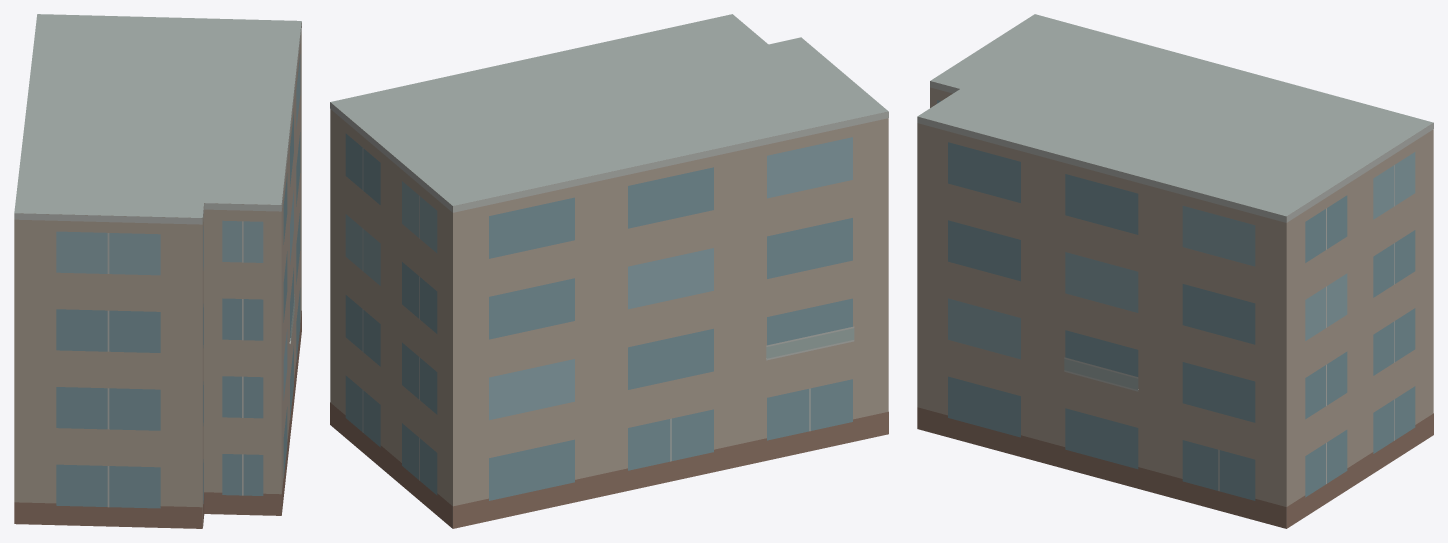
Rendered from survey-upis-32524475.glb.
3 renders of one model, left to right at view 1: azimuth 30°, elevation 25°; view 2: azimuth 150°, elevation 25°; view 3: azimuth 270°, elevation 25°, orthographic. The views are drawn at different scales.
Parts seen in each view (by area): view 1: survey-upis-32524475.tmp; view 2: survey-upis-32524475.tmp; view 3: survey-upis-32524475.tmp.
Boxes of the visible parts, x1,y1,x2,y2 form: survey-upis-32524475.tmp: (14,14,301,528); survey-upis-32524475.tmp: (330,14,888,528); survey-upis-32524475.tmp: (917,14,1433,528).
Size of the model in its own units: 16.27 by 11.7 by 17.54.
